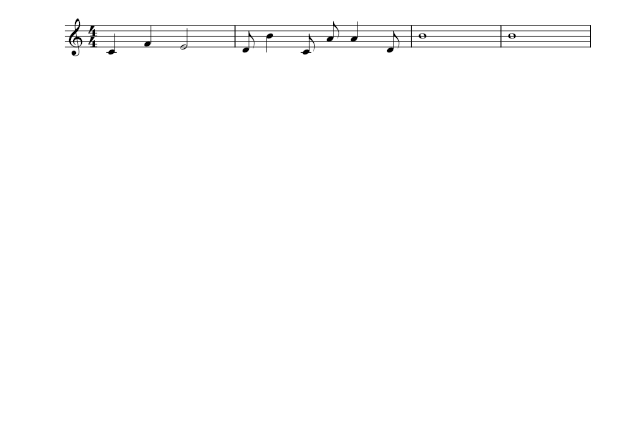Treble Clef: (63, 13, 84, 61)
